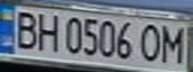0: (60, 13, 84, 55), (97, 18, 118, 60)
5: (78, 16, 100, 56)
6: (115, 19, 139, 61)
B: (9, 8, 42, 51)
H: (33, 10, 63, 52)
M: (157, 22, 190, 63)
O: (136, 21, 166, 63)
